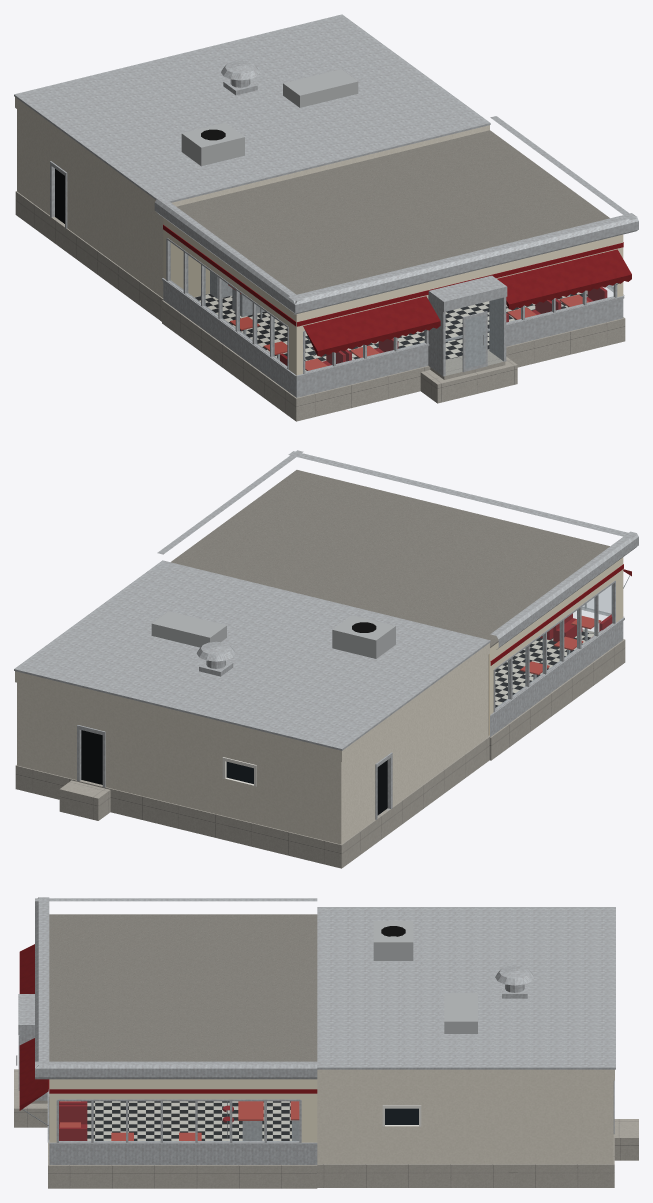
File: chadwicks.glb
The picture shows the model from 3 angles, top to bottom: view 1: azimuth 30°, elevation 25°; view 2: azimuth 150°, elevation 25°; view 3: azimuth 270°, elevation 25°; orthographic projection.
Parts seen in each view (by area): view 1: Chadwicks; view 2: Chadwicks; view 3: Chadwicks.
Part boxes in pixels (<box>): Chadwicks: <box>14,14,638,421</box>; Chadwicks: <box>14,450,638,868</box>; Chadwicks: <box>14,897,638,1188</box>.
Bounding box in the file's own units: 14.13 × 5.6 × 22.15.
19 materials, 6 textured.
